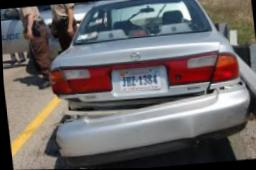Bumper: (52, 82, 246, 166)
